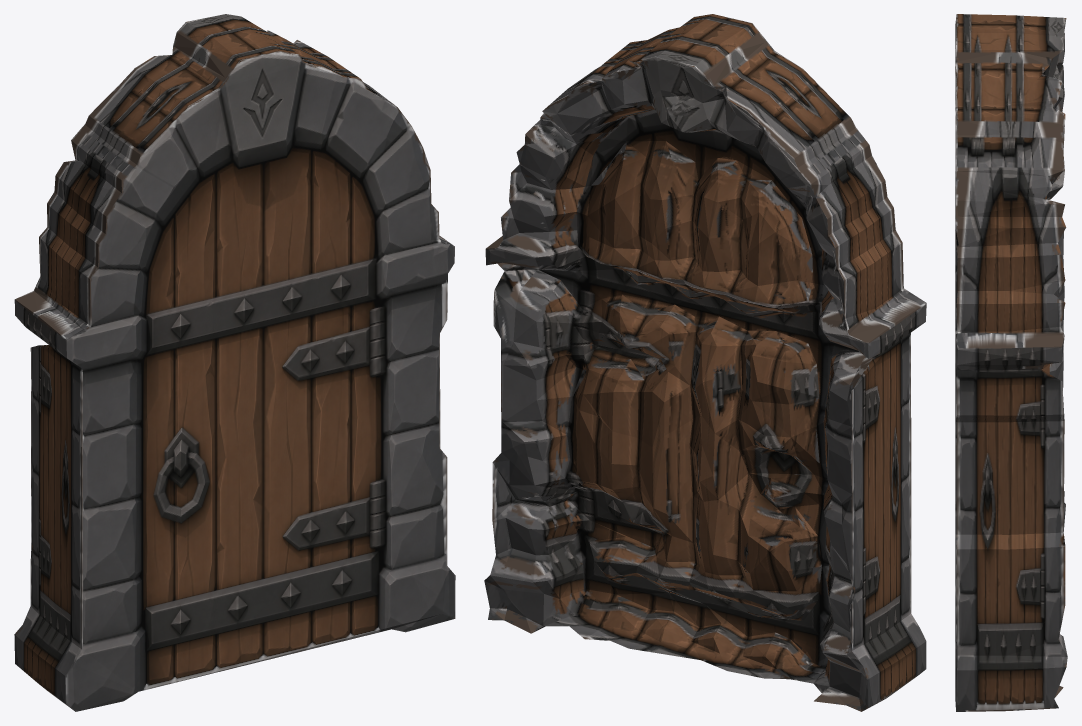
The model's file is SM_Dungeon_Door_A_LOD0.fbx.
3 renders of one model, left to right at view 1: azimuth 30°, elevation 25°; view 2: azimuth 150°, elevation 25°; view 3: azimuth 270°, elevation 25°, orthographic. The views are drawn at different scales.
Visible parts, largest first — view 1: SM_Dungeon_Door_A_LOD0; view 2: SM_Dungeon_Door_A_LOD0; view 3: SM_Dungeon_Door_A_LOD0.
Part boxes in pixels (<box>): SM_Dungeon_Door_A_LOD0: <box>14,14,455,711</box>; SM_Dungeon_Door_A_LOD0: <box>484,14,926,711</box>; SM_Dungeon_Door_A_LOD0: <box>955,14,1067,711</box>.
Bounding box in the file's own units: 2 × 3 × 0.5114.
